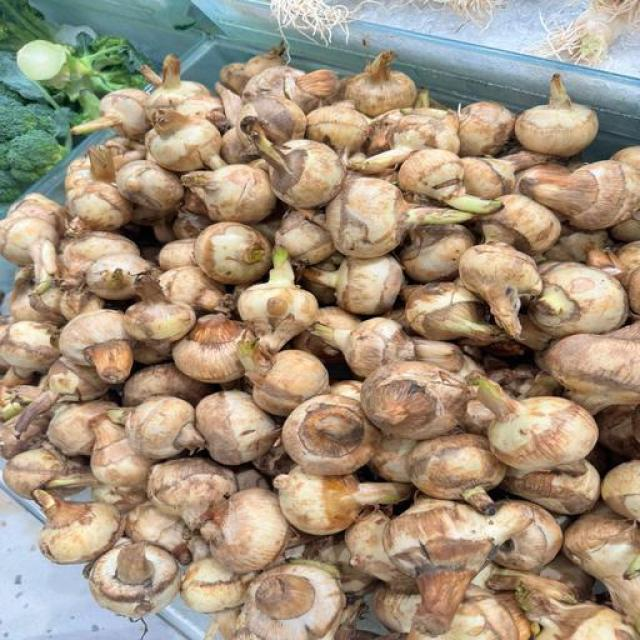organic: (5, 0, 640, 640), (0, 0, 147, 201), (0, 0, 148, 122), (18, 34, 147, 123), (0, 95, 71, 202), (0, 90, 71, 188), (68, 35, 148, 118), (15, 40, 88, 94), (0, 97, 71, 143), (7, 130, 67, 183), (0, 52, 57, 107), (492, 568, 559, 614), (0, 98, 64, 142), (77, 35, 148, 74), (0, 0, 53, 51), (17, 40, 73, 88), (7, 130, 66, 169), (469, 377, 517, 418), (8, 130, 66, 162), (75, 34, 127, 68), (0, 104, 37, 142), (93, 69, 146, 94), (287, 558, 341, 581), (442, 195, 503, 214), (407, 207, 474, 224), (87, 35, 128, 62), (24, 103, 57, 136), (577, 29, 609, 62), (537, 288, 573, 317), (72, 92, 101, 126), (269, 247, 294, 286), (9, 163, 54, 184), (83, 73, 122, 96), (74, 33, 111, 57), (52, 108, 72, 147), (0, 170, 23, 203), (47, 473, 87, 489), (24, 103, 53, 124), (238, 339, 257, 369), (0, 82, 24, 103), (310, 323, 334, 343), (0, 402, 23, 421), (243, 245, 266, 263), (623, 554, 639, 579), (272, 247, 288, 269), (107, 409, 127, 424), (174, 19, 198, 31), (129, 74, 148, 89), (0, 94, 21, 107), (129, 74, 148, 88), (0, 143, 8, 171)
